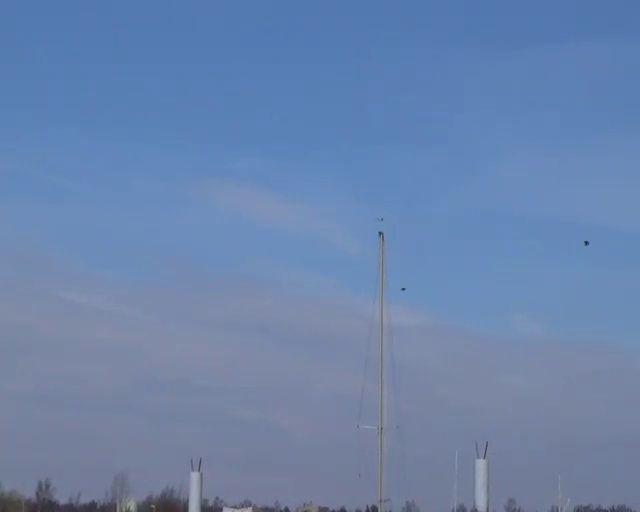BIRD: (583, 240, 590, 246)
